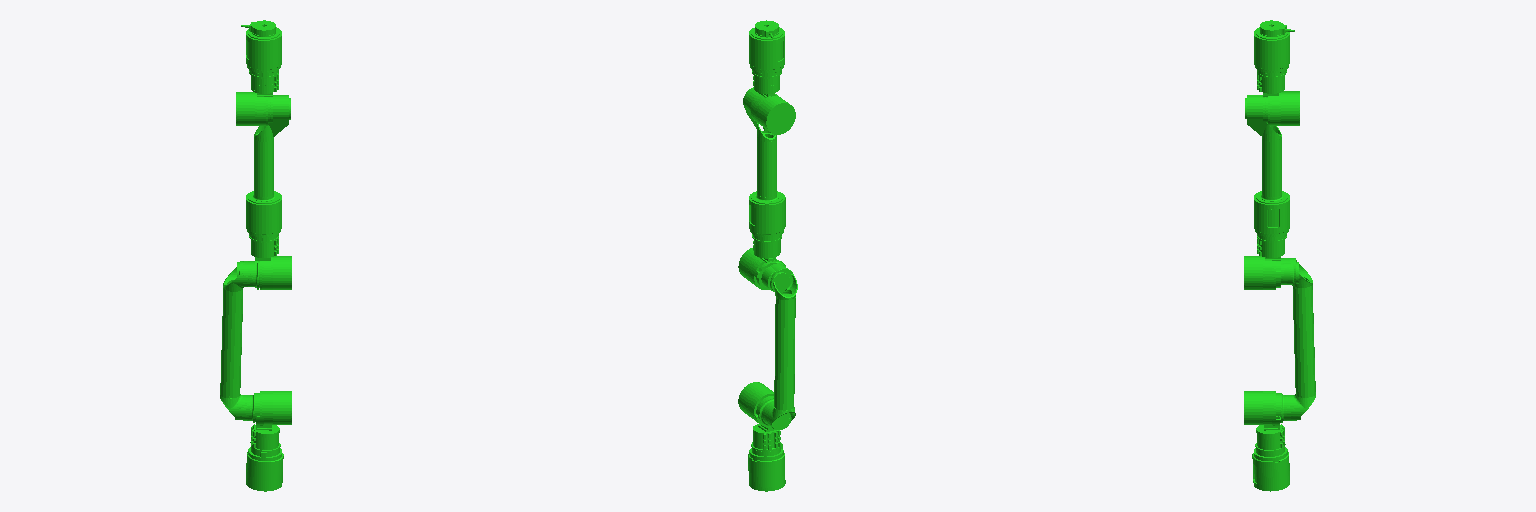
robot.urdf — artemis:
<?xml version="1.0"?>
<robot name="artemis">

    <material name="ArtemisGreen">
            <color rgba="0.2 0.9 0.2 1.0"/>
    </material>

        <material name="ArtemisBlue">
                <!--color rgba="0.2 0.2 0.9 1.0"/-->
                <color rgba="0.2 0.2 0.2 1.0"/>
        </material>

        <link name="base_link">
                <visual>
                        <material name="ArtemisGreen" />
                        <origin xyz="0 0 0 " rpy="0 0 0"/>
                        <!--origin xyz="0 0 0.0" rpy="0 0 0"/-->
                        <geometry>
                                <box size="0.01 0.01 0.01"/>
                        </geometry>
                </visual>
                <collision>
                        <origin xyz="0 0 0" rpy="0 0 0"/>
                        <!--origin xyz="0 0 0.0" rpy="0 0 0"/-->
                        <geometry>
                                <box size="0.01 0.01 0.01"/>
                        </geometry>
                </collision>
        </link>

	<!-- First revolute joint & link -->

        <joint name="joint_1" type="revolute">
                <!--origin xyz="0.56 0.075 0.30" rpy="0 0 0"/-->
                <origin xyz="0.0 0.00 0.0" rpy="0 0 0"/>
		<axis xyz="0 0 1" rpy="0 0 0"/>
                <parent link="base_link"/>
                <child link="link_1"/>
		<limit lower="-3.1415926535897931" upper="3.1415926535897931" effort="1" velocity="3.1415926535897931"/>
	</joint>

        <link name="link_1">
		<visual>
                        <material name="ArtemisGreen" />
                        <origin xyz="0 0 0 " rpy="0 0 0"/>
			<!--origin xyz="0 0 0.0" rpy="0 0 0"/-->
			<geometry>
                                <mesh filename="./meshes/joint_1.stl"/>
			</geometry>
		</visual>
		<collision>
                        <origin xyz="0 0 0" rpy="0 0 0"/>
			<!--origin xyz="0 0 0.0" rpy="0 0 0"/-->

			<geometry>
                                <mesh filename="./meshes/joint_1.stl"/>
			</geometry>
		</collision>
	</link>

        <!-- Second revolute joint & link -->

        <joint name="joint_2" type="revolute">
                <origin xyz="0 0 0.158" rpy="1.570796327 0 0"/>
                <axis xyz="0 0 -1"/>
                <parent link="link_1"/>
                <child link="link_2"/>
                <limit lower="-0.8" upper="2.09" effort="1" velocity="3.1415926535897931"/>
        </joint>

        <link name="link_2">
                <visual>
                        <material name="ArtemisGreen" />
                        <origin xyz="0 0 0.0" rpy="0 0 0"/>
                        <geometry>
                                <mesh filename="./meshes/joint_2.stl" />
                        </geometry>
                </visual>
                <collision>
                        <origin xyz="0 0 0.0" rpy="0 0 0"/>
                        <geometry>
                        <mesh filename="./meshes/joint_2.stl" />
                        </geometry>
                </collision>
        </link>

        <!-- Third revolute joint & link -->

        <joint name="joint_3" type="revolute">
                <origin xyz="0.0 0.28 0.0 " rpy="0 0 0"/>
                <axis xyz="0 0 -1"/>
                <parent link="link_2"/>
                <child link="link_3"/>
                <limit lower="-2.3" upper="2.3" effort="1" velocity="3.1415926535897931"/>
        </joint>

        <link name="link_3">
                <visual>
                        <material name="ArtemisGreen" />
                        <origin xyz="0 0. 0.0" rpy="0 0 0"/>
                        <geometry>
                        <mesh filename="./meshes/joint_3.stl" />
                        </geometry>
                </visual>
                <collision>
                        <origin xyz="0 0. 0.0" rpy="0 0 0"/>
                        <geometry>
                        <mesh filename="./meshes/joint_3.stl"/>
                        </geometry>
                </collision>
        </link>

        <!-- Fourth revolute joint & link -->
        <joint name="joint_4" type="revolute">
                <origin xyz="0 0.0 0.0 " rpy="-1.570796327 0 0"/>
                <axis xyz="0 0 1"/>
                <parent link="link_3"/>
                <child link="link_4"/>
                <limit lower="-3.1415926535897931" upper="3.1415926535897931" effort="1" velocity="3.1415926535897931"/>
        </joint>
        <link name="link_4">
                <visual>
                        <material name="ArtemisGreen" />
                        <origin xyz="0 0 0" rpy="0 0 0"/>
                        <geometry>
                        <mesh filename="./meshes/joint_4.stl" />
                        </geometry>
                </visual>
                <collision>
                        <origin xyz="0 0 0" rpy="0 0 0"/>
                        <geometry>
                        <mesh filename="./meshes/joint_4.stl" />
                        </geometry>
                </collision>
        </link>

        <!-- Fifth revolute joint & link -->
        <joint name="joint_5" type="revolute">
                <origin xyz="0 0 0.340" rpy="1.570796327 0 0"/>
                <axis xyz="0 0 -1"/>
                <parent link="link_4"/>
                <child link="link_5"/>
                <limit lower="-2.0" upper="2.0" effort="1" velocity="3.1415926535897931"/>
        </joint>
        <link name="link_5">
                <visual>
                        <material name="ArtemisGreen" />
                        <origin xyz="0 0 0" rpy="0 0 0"/>
                        <geometry>
                        <mesh filename="./meshes/joint_5.stl" />
                        </geometry>
                </visual>
                <collision>
                        <origin xyz="0 0 -0.042276823" rpy="0 -0.959931089 1.570796327"/>
                        <geometry>
                        <mesh filename="./meshes/joint_5.stl" />
                        </geometry>
                </collision>
        </link>

        <!-- Sixth revolute joint & link -->
        <joint name="joint_6" type="revolute">
                <origin xyz="0 0.346 0" rpy="-1.570796327 0 0"/>
                <axis xyz="0 0 1"/>
                <parent link="link_5"/>
                <child link="link_6"/>
                <limit lower="-3.1" upper="5.2" effort="1" velocity="3.1415926535897931"/>
        </joint>
        <link name="link_6">
                <visual>
                        <material name="ArtemisGreen" />
                        <origin xyz="0 0 -0.346" rpy="0 0 0"/>
                        <geometry>
                        <mesh filename="./meshes/joint_6_wt_sensor.stl" />
                        </geometry>
                </visual>
                <collision>
                        <origin xyz="0 0 -0.346" rpy="0 0 0"/>
                        <geometry>
                        <mesh filename="./meshes/joint_6_wt_sensor.stl" />
                        </geometry>
                </collision>
        </link>
</robot>

--- Render facts (derived) ---
The picture shows the robot from 3 angles, left to right: view 1: azimuth 90°, elevation 25°; view 2: azimuth 210°, elevation 25°; view 3: azimuth 270°, elevation 25°; orthographic projection.
Model artemis with 7 links and 6 joints (6 revolute), rooted at base_link, posed every joint at zero.
Links seen in each view (by area): view 1: link_2, link_4, link_6, link_1, link_5, link_3; view 2: link_2, link_4, link_6, link_1, link_5, link_3; view 3: link_2, link_4, link_6, link_1, link_3, link_5.
Link boxes in pixels (x1=…): link_2: x1=220, y1=261, x2=291, y2=424; link_4: x1=246, y1=95, x2=288, y2=257; link_6: x1=241, y1=20, x2=281, y2=93; link_1: x1=246, y1=416, x2=283, y2=491; link_5: x1=236, y1=92, x2=290, y2=125; link_3: x1=237, y1=256, x2=291, y2=289; link_2: x1=738, y1=260, x2=797, y2=429; link_4: x1=743, y1=87, x2=785, y2=258; link_6: x1=749, y1=20, x2=784, y2=93; link_1: x1=748, y1=414, x2=785, y2=491; link_5: x1=750, y1=93, x2=795, y2=134; link_3: x1=738, y1=248, x2=789, y2=292; link_2: x1=1244, y1=258, x2=1315, y2=424; link_4: x1=1247, y1=95, x2=1289, y2=257; link_6: x1=1254, y1=20, x2=1294, y2=93; link_1: x1=1252, y1=416, x2=1289, y2=491; link_3: x1=1244, y1=256, x2=1298, y2=289; link_5: x1=1245, y1=91, x2=1299, y2=125.
Size in the robot's own frame: 0.0707 by 0.135 by 0.9549 metres.
6 mesh visuals loaded from 6 distinct referenced files (6 binary STL).